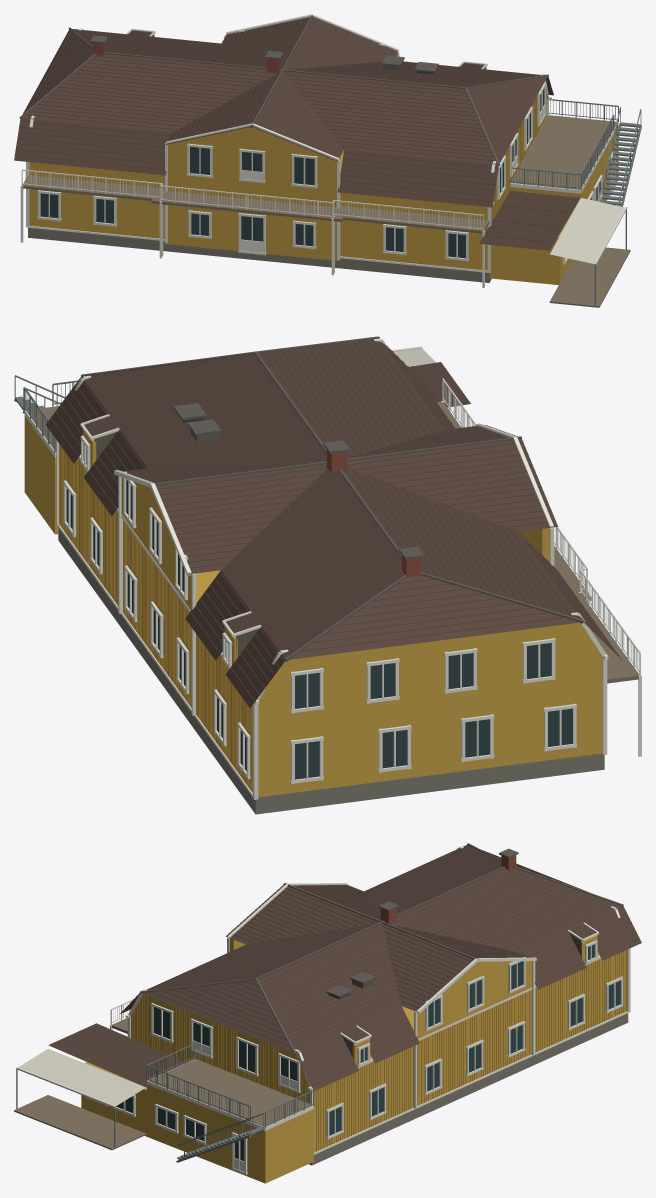
3 views of the same model, one above another, from view 1: azimuth 30°, elevation 25°; view 2: azimuth 150°, elevation 25°; view 3: azimuth 270°, elevation 25° (orthographic). The views are drawn at different scales.
Visible parts, largest first — view 1: Clubhouse | Roof tile, Clubhouse | Ochre timber, Clubhouse | Tile course, Clubhouse | White trim, Clubhouse | Deck timber, Clubhouse | Glass, Clubhouse | Foundation, Clubhouse | Metal rail, Clubhouse | Awning, Clubhouse | Roof flashing, Clubhouse | Timber battens; view 2: Clubhouse | Roof tile, Clubhouse | Ochre timber, Clubhouse | Tile course, Clubhouse | White trim, Clubhouse | Timber battens, Clubhouse | Foundation, Clubhouse | Glass, Clubhouse | Roof flashing, Clubhouse | Deck timber, Clubhouse | Metal rail, Clubhouse | Brick; view 3: Clubhouse | Roof tile, Clubhouse | Ochre timber, Clubhouse | Tile course, Clubhouse | White trim, Clubhouse | Timber battens, Clubhouse | Deck timber, Clubhouse | Glass, Clubhouse | Metal rail, Clubhouse | Foundation, Clubhouse | Roof flashing, Clubhouse | Awning.
Part boxes in pixels (x1,y1,x2,y2): Clubhouse | Roof tile: [14, 17, 580, 250]; Clubhouse | Ochre timber: [29, 35, 618, 284]; Clubhouse | Tile course: [15, 17, 571, 242]; Clubhouse | White trim: [20, 14, 627, 287]; Clubhouse | Deck timber: [22, 115, 630, 307]; Clubhouse | Glass: [40, 71, 613, 258]; Clubhouse | Foundation: [28, 228, 491, 282]; Clubhouse | Metal rail: [510, 99, 641, 305]; Clubhouse | Awning: [550, 198, 624, 263]; Clubhouse | Roof flashing: [19, 15, 548, 165]; Clubhouse | Timber battens: [491, 96, 546, 222]; Clubhouse | Roof tile: [45, 339, 622, 708]; Clubhouse | Ochre timber: [24, 416, 602, 797]; Clubhouse | Tile course: [50, 339, 617, 701]; Clubhouse | White trim: [24, 338, 641, 799]; Clubhouse | Timber battens: [59, 443, 252, 792]; Clubhouse | Foundation: [58, 528, 604, 814]; Clubhouse | Glass: [66, 418, 572, 779]; Clubhouse | Roof flashing: [81, 336, 583, 661]; Clubhouse | Deck timber: [27, 401, 639, 683]; Clubhouse | Metal rail: [14, 348, 422, 452]; Clubhouse | Brick: [326, 450, 420, 577]; Clubhouse | Roof tile: [48, 844, 641, 1090]; Clubhouse | Ochre timber: [81, 935, 627, 1183]; Clubhouse | Tile course: [63, 845, 639, 1085]; Clubhouse | White trim: [16, 846, 630, 1174]; Clubhouse | Timber battens: [132, 950, 626, 1151]; Clubhouse | Deck timber: [14, 1018, 311, 1150]; Clubhouse | Glass: [116, 944, 620, 1161]; Clubhouse | Metal rail: [16, 1043, 314, 1162]; Clubhouse | Foundation: [308, 1013, 628, 1165]; Clubhouse | Roof flashing: [139, 843, 623, 1058]; Clubhouse | Awning: [18, 1049, 145, 1105].
Size of the model in its own units: 35.4 by 9.69 by 37.15.
